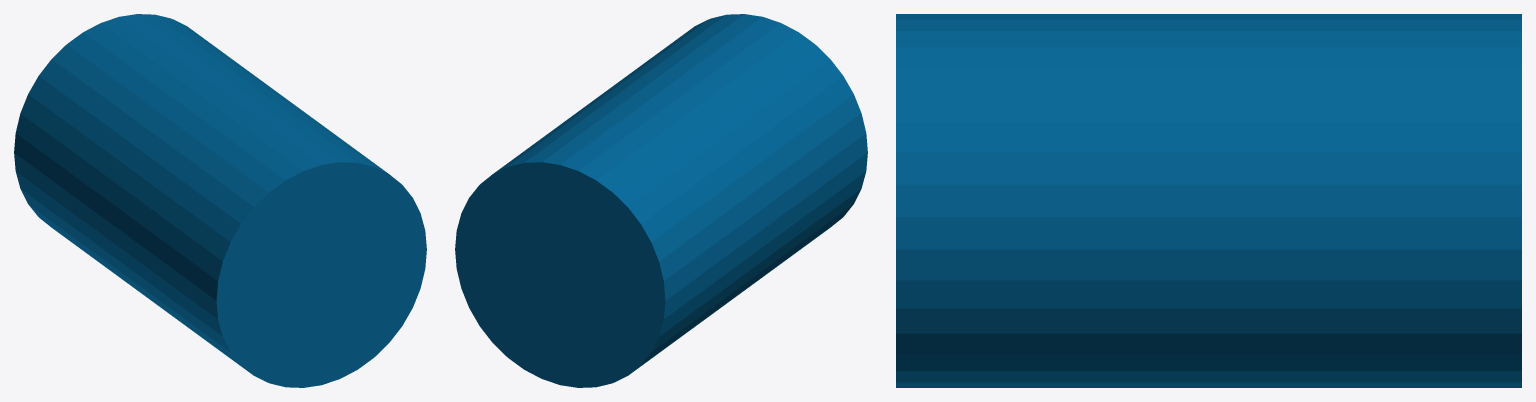
File: employment.fbx
The picture shows the model from 3 angles, left to right: view 1: azimuth 30°, elevation 25°; view 2: azimuth 150°, elevation 25°; view 3: azimuth 270°, elevation 25°; orthographic projection. The views are drawn at different scales.
Visible parts, largest first — view 1: ID18, skpirYQ95; view 2: ID18, ID12; view 3: ID18.
Part boxes in pixels (left/top/right/bottom): ID18: left=14, top=14, right=388, bottom=373; skpirYQ95: left=216, top=162, right=426, bottom=387; ID18: left=493, top=14, right=867, bottom=373; ID12: left=455, top=162, right=665, bottom=387; ID18: left=896, top=14, right=1521, bottom=387.
Size of the model in its own units: 30 by 50 by 30.
